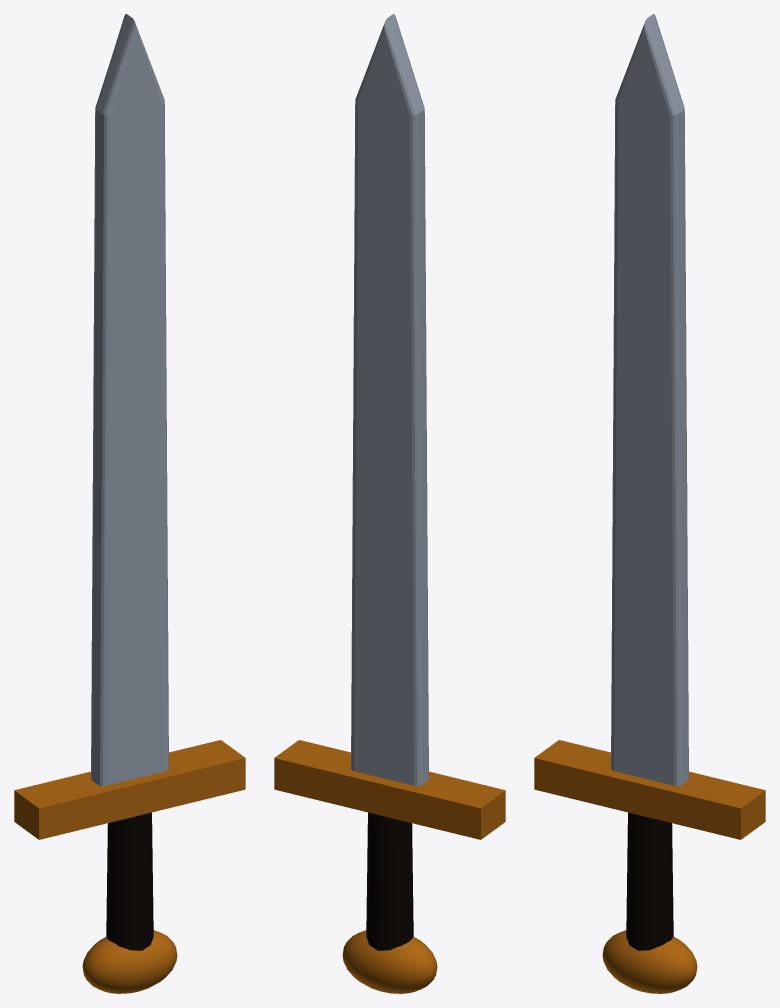
The model's file is viking-sword.glb.
3 renders of one model, left to right at view 1: azimuth 30°, elevation 25°; view 2: azimuth 150°, elevation 25°; view 3: azimuth 330°, elevation 25°, orthographic.
Parts seen in each view (by area): view 1: Blade, Guard, Grip, Pommel; view 2: Blade, Guard, Grip, Pommel; view 3: Blade, Guard, Grip, Pommel.
Boxes of the visible parts, <box> form: Blade: <box>91,14,168,785</box>; Guard: <box>14,740,245,839</box>; Grip: <box>106,812,153,950</box>; Pommel: <box>82,930,177,993</box>; Blade: <box>351,14,428,785</box>; Guard: <box>274,740,505,839</box>; Grip: <box>366,812,413,950</box>; Pommel: <box>342,930,437,993</box>; Blade: <box>611,14,688,785</box>; Guard: <box>534,740,765,839</box>; Grip: <box>626,812,673,950</box>; Pommel: <box>602,930,697,993</box>.
Bounding box in the file's own units: 0.24 × 1.08 × 0.064.
